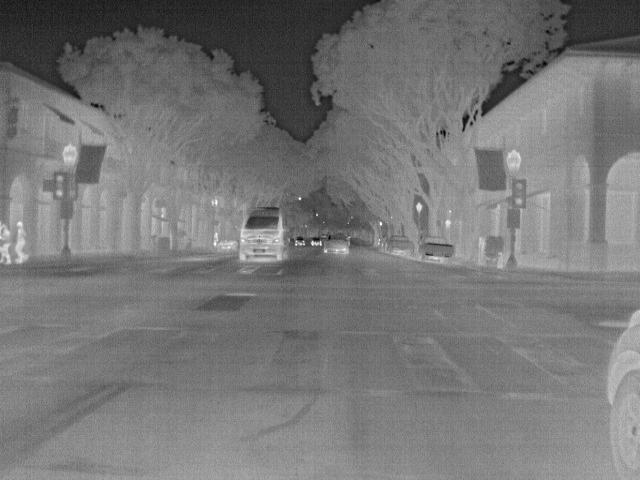car: (604, 310, 639, 476), (238, 204, 290, 262), (416, 234, 455, 265), (384, 233, 415, 256), (320, 233, 352, 254), (214, 236, 238, 255), (294, 234, 306, 248)
person: (11, 220, 28, 262), (0, 222, 14, 262)
